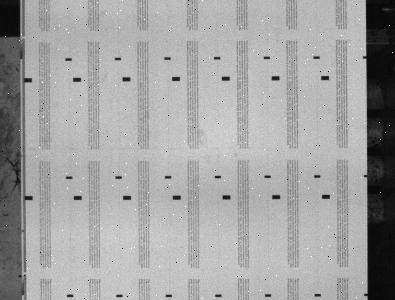backgroundclutter: (21, 288, 24, 295), (18, 274, 22, 277)
incorrect qblock: (363, 56, 367, 59), (364, 293, 368, 296), (364, 174, 368, 177)
qblock: (172, 195, 181, 200), (24, 195, 33, 200), (123, 195, 131, 200), (74, 195, 82, 200), (322, 194, 330, 199), (222, 76, 230, 81), (172, 76, 180, 81), (73, 77, 81, 82), (222, 195, 231, 199), (271, 76, 280, 80), (24, 78, 32, 82), (272, 195, 280, 199), (122, 77, 130, 81), (321, 76, 329, 80)
smallqblock: (165, 175, 172, 179), (214, 56, 221, 60), (65, 58, 72, 61), (265, 294, 272, 297), (115, 176, 122, 179), (165, 294, 172, 297), (214, 175, 221, 178), (314, 293, 321, 296), (116, 294, 123, 297), (66, 176, 73, 179), (114, 57, 121, 60), (215, 294, 222, 297), (67, 294, 74, 297), (264, 175, 271, 178), (164, 57, 171, 60), (313, 56, 320, 59), (263, 56, 270, 59), (314, 175, 321, 178)
